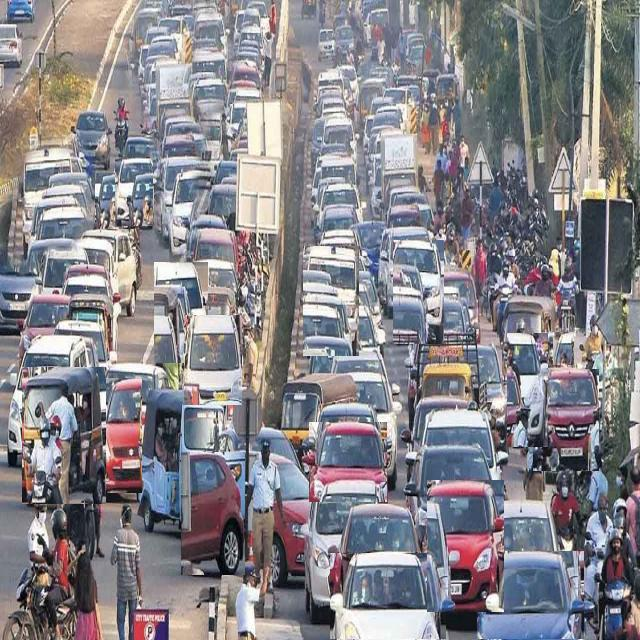autorickshaw: (139, 391, 224, 529), (22, 367, 106, 504), (280, 373, 356, 448)
car: (6, 338, 90, 467), (304, 480, 376, 622), (428, 480, 504, 612), (330, 554, 446, 640), (478, 551, 584, 640), (335, 504, 420, 596), (181, 453, 245, 575), (481, 500, 560, 598), (404, 444, 491, 526), (534, 369, 599, 471), (310, 422, 387, 502), (304, 246, 359, 356), (271, 453, 314, 587), (352, 373, 401, 489), (155, 262, 208, 363), (184, 315, 242, 405), (394, 240, 444, 344), (102, 378, 142, 493), (508, 333, 548, 447), (95, 173, 141, 229), (116, 158, 153, 226), (554, 333, 574, 365)
motorcycle: (2, 509, 78, 640), (599, 529, 631, 640)
